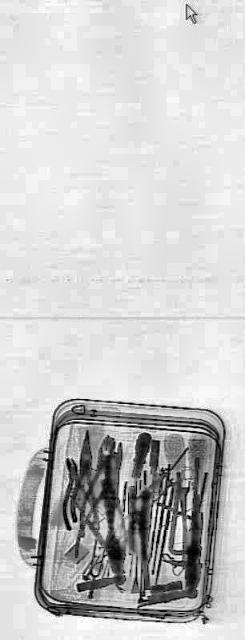Pliers: (74, 446, 130, 566), (77, 423, 123, 549), (68, 428, 100, 530), (57, 448, 93, 534)
